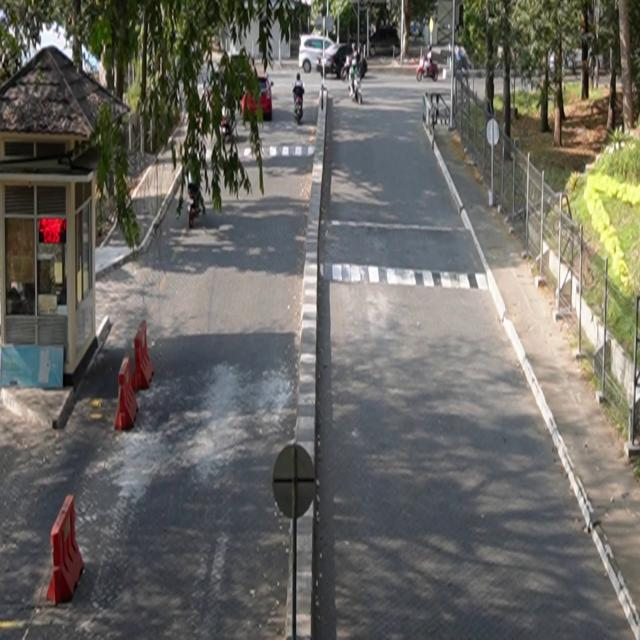car: (241, 76, 275, 122)
